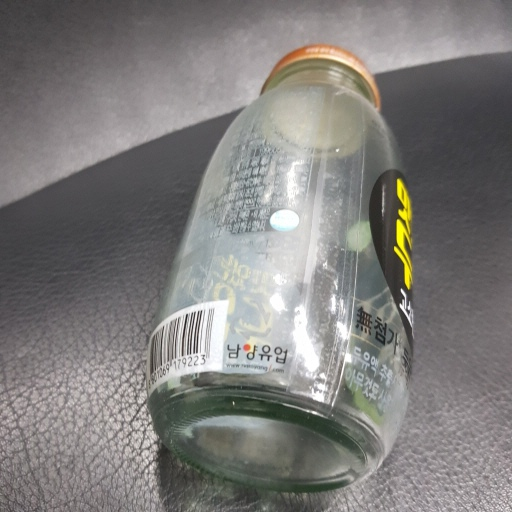Glass_4: (135, 36, 429, 488)
